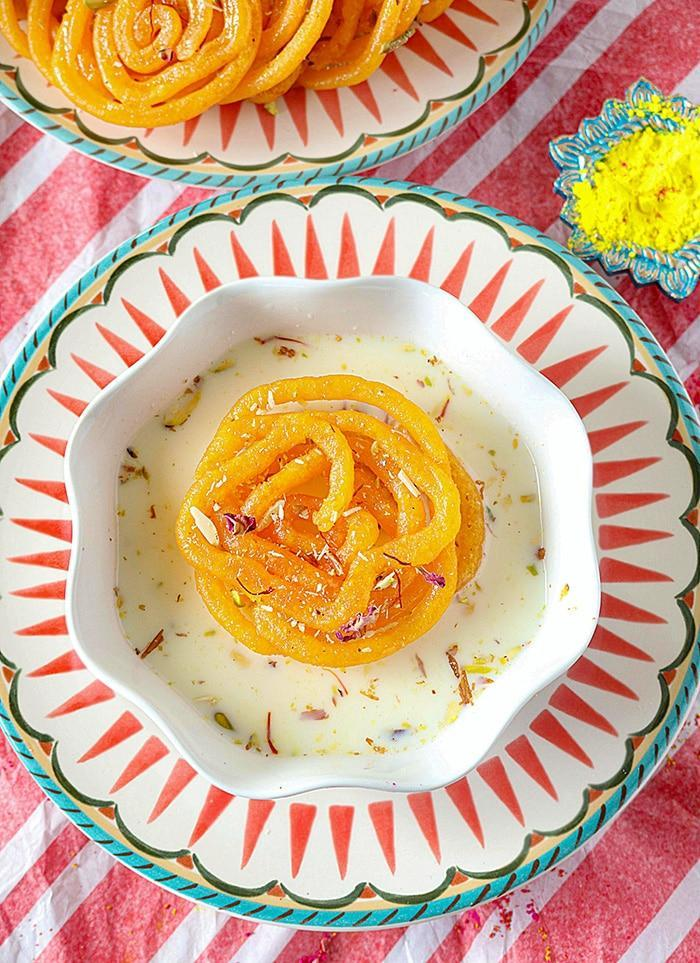jalebi: (205, 369, 480, 652), (3, 9, 535, 119)
